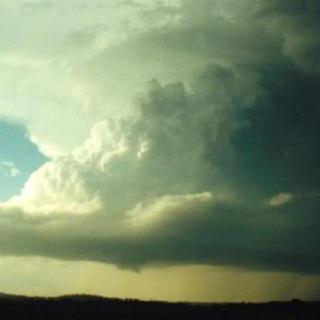Cumulonimbus: (0, 2, 320, 286)
